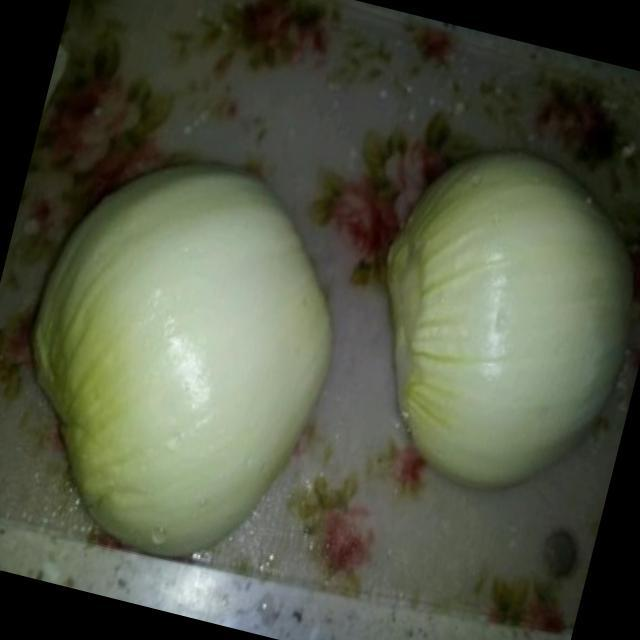Onion: (30, 163, 337, 561), (381, 152, 640, 495)
